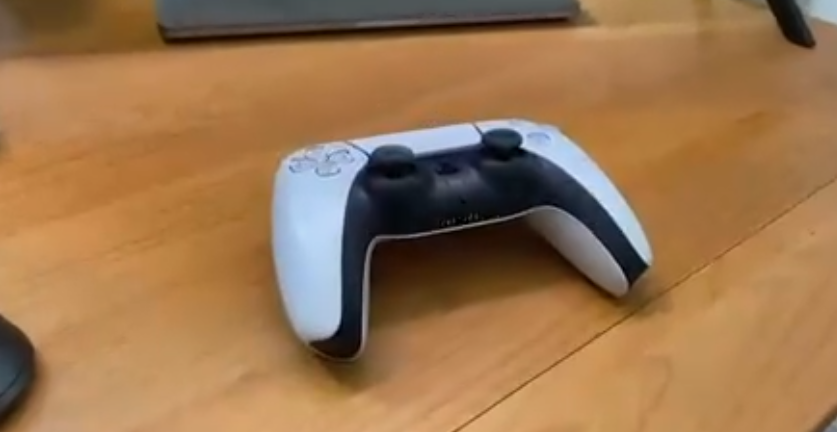gamingconsole: (269, 116, 653, 356)
